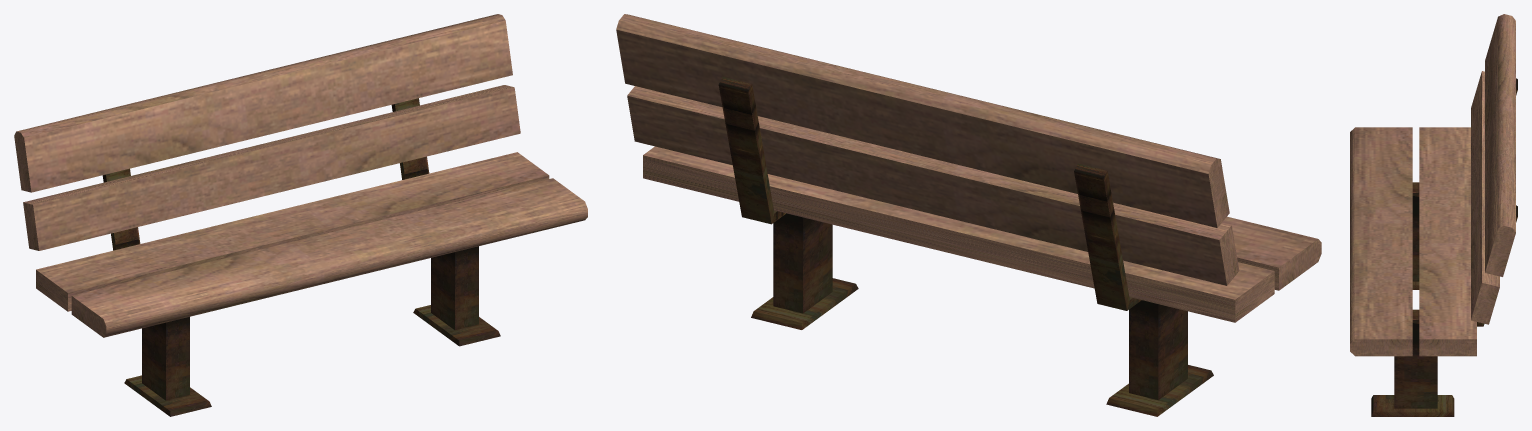
The model's file is parkbench.fbx.
3 views of the same model, side by side, from view 1: azimuth 30°, elevation 25°; view 2: azimuth 150°, elevation 25°; view 3: azimuth 270°, elevation 25° (orthographic). The views are drawn at different scales.
Visible parts, largest first — view 1: mesh_0; view 2: mesh_0; view 3: mesh_0.
Part boxes in pixels (bbox=[...]): mesh_0: bbox=[14, 14, 587, 416]; mesh_0: bbox=[616, 14, 1321, 416]; mesh_0: bbox=[1350, 14, 1517, 416].
Bounding box in the file's own units: 200 × 98.76 × 67.
Materials: 1 (1 with a texture image).
